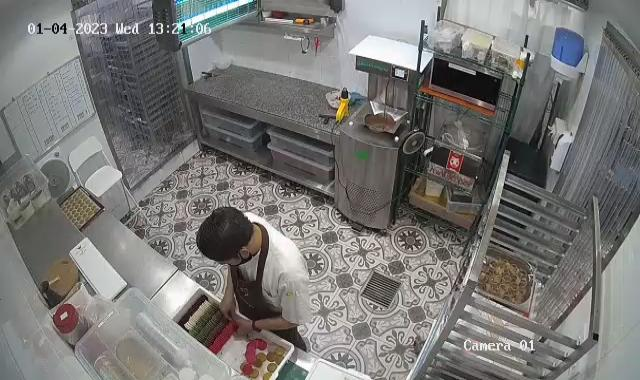no_hairnet: (195, 206, 255, 258)
